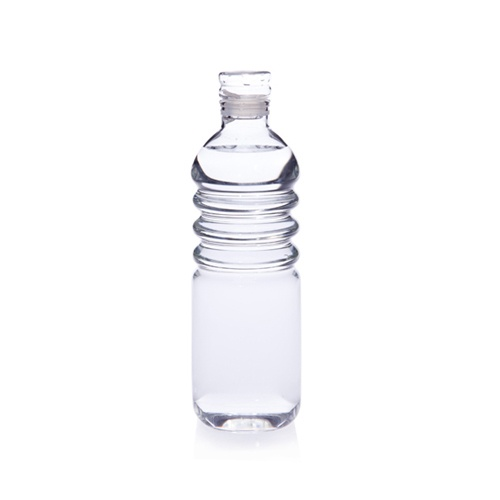glass of water: (185, 57, 322, 432)
